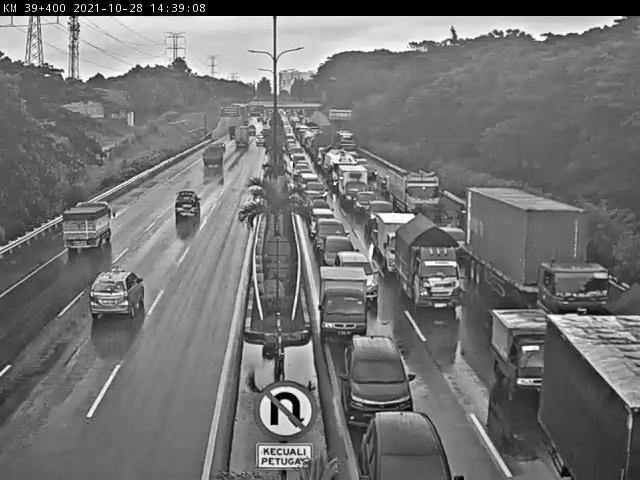big truck: (482, 201, 625, 321)
car: (322, 322, 428, 426), (346, 390, 462, 478), (73, 246, 162, 341), (488, 290, 558, 397), (326, 285, 374, 340), (167, 179, 202, 231), (322, 233, 357, 269), (316, 217, 347, 252), (365, 197, 393, 231), (352, 187, 377, 210)
small truck: (392, 220, 481, 323), (313, 261, 380, 346), (53, 196, 119, 261)
